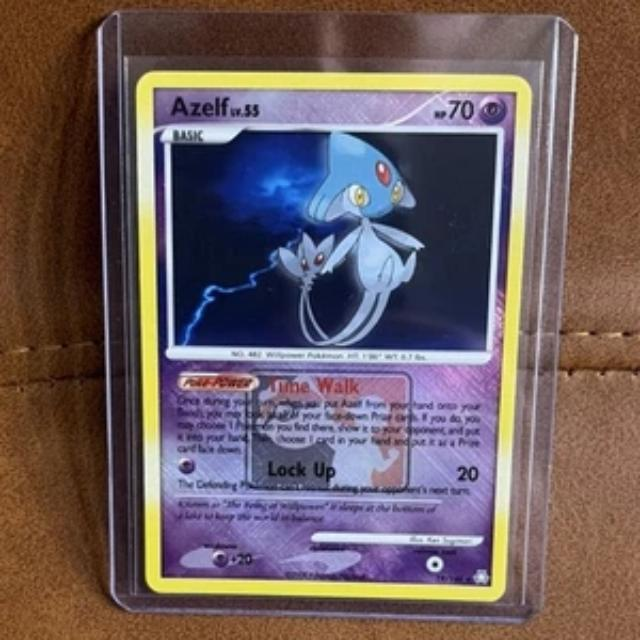Card: (131, 67, 536, 607)
Name: (167, 93, 236, 124)
